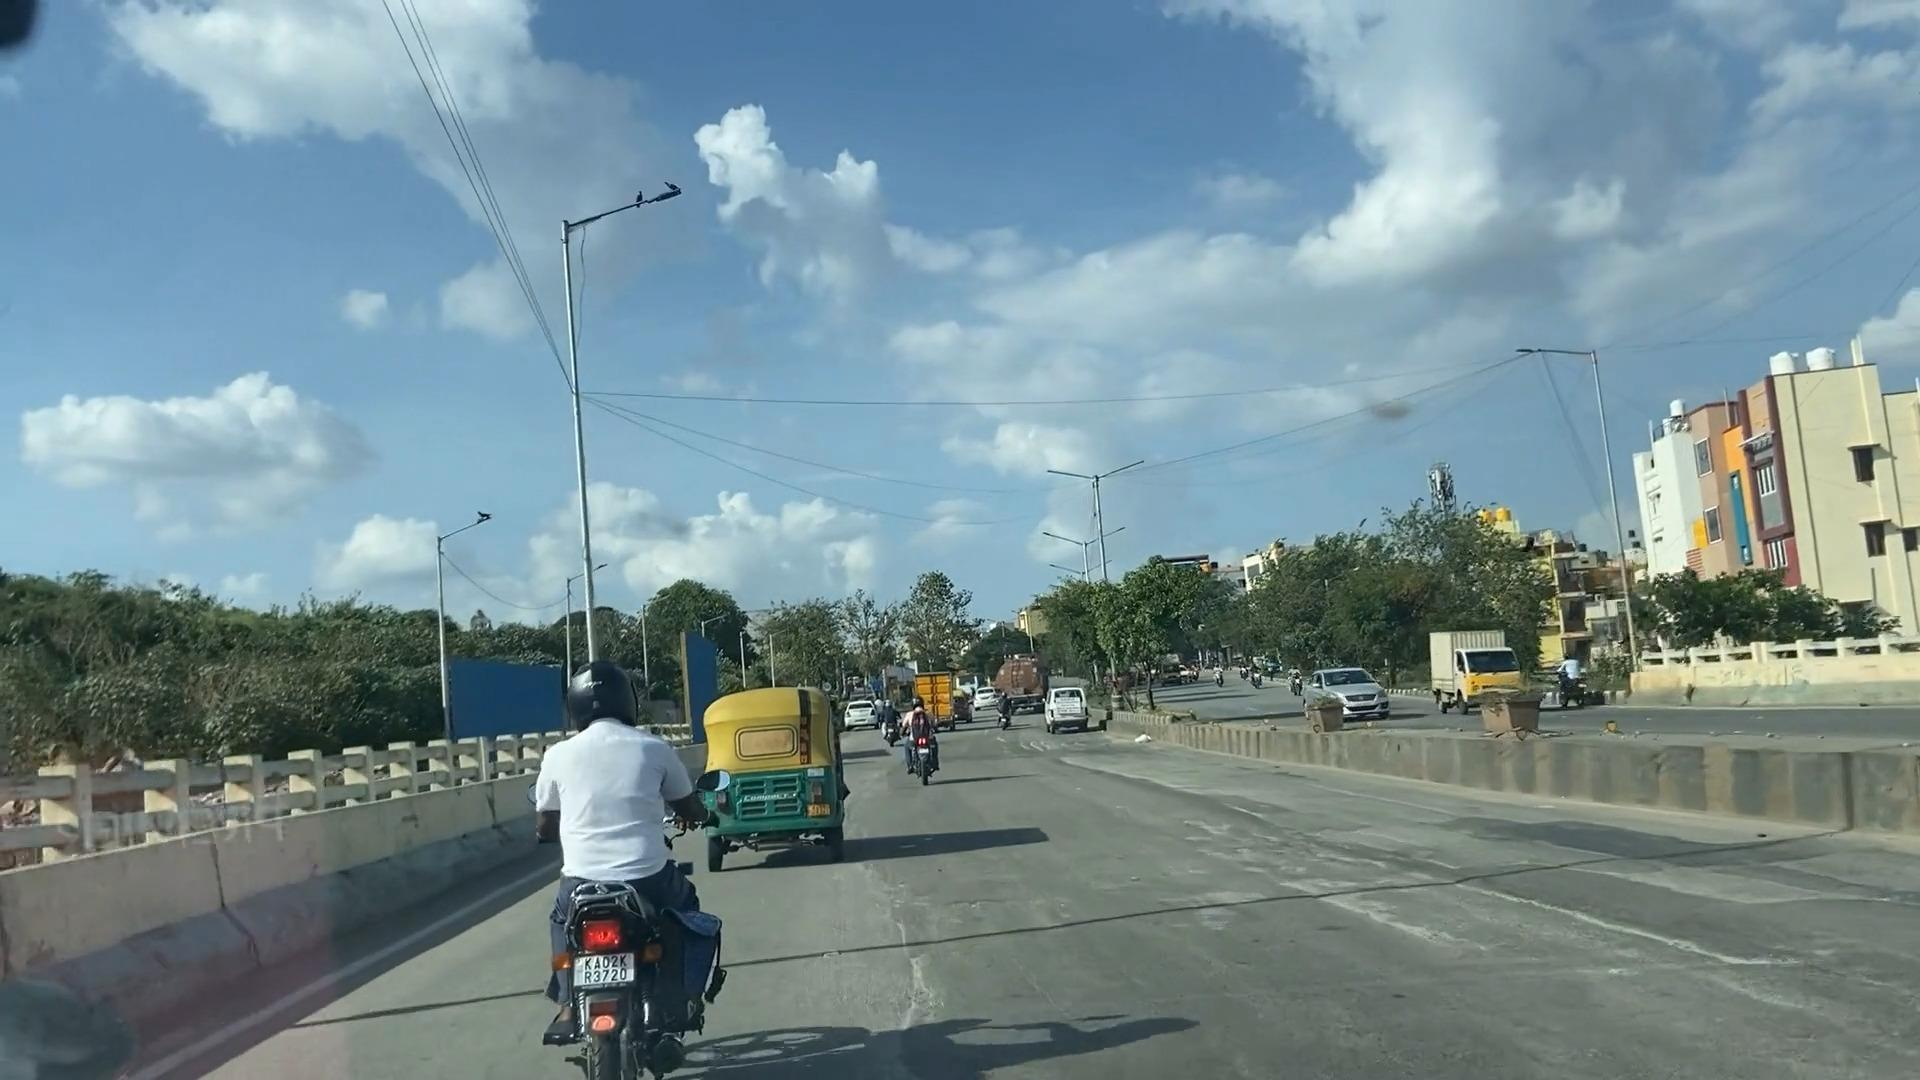RoadDamages: (1279, 796, 1909, 1080), (827, 858, 990, 1072)
